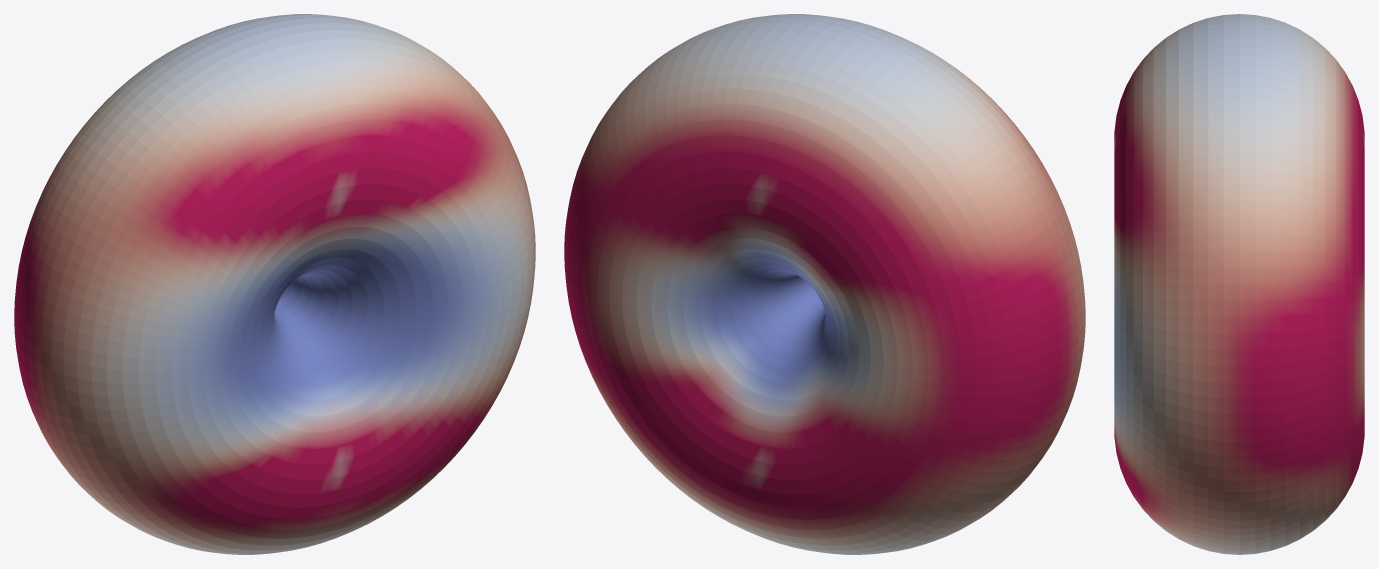
The picture shows the model from 3 angles, left to right: view 1: azimuth 30°, elevation 25°; view 2: azimuth 150°, elevation 25°; view 3: azimuth 270°, elevation 25°; orthographic projection. The views are drawn at different scales.
Visible parts, largest first — view 1: world; view 2: world; view 3: world.
Part boxes in pixels (bbox=[...]): world: bbox=[14, 14, 535, 554]; world: bbox=[564, 14, 1085, 554]; world: bbox=[1114, 14, 1364, 554].
Bounding box in the file's own units: 19.87 × 19.87 × 9.18.
